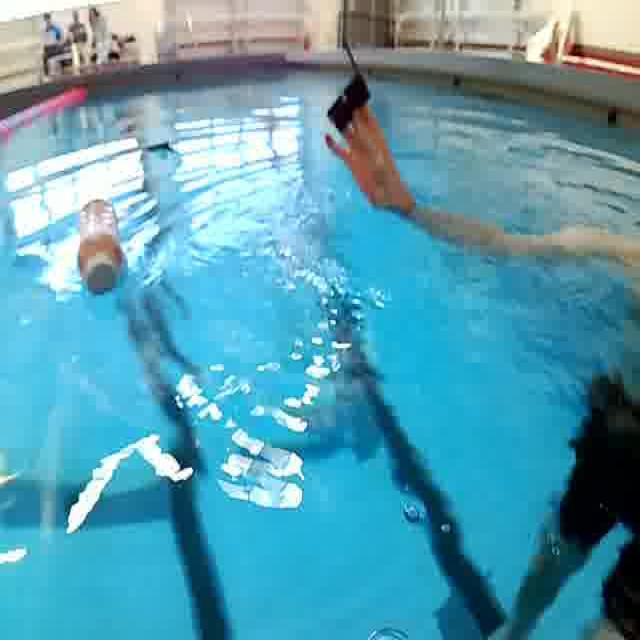Bottle: (73, 196, 131, 299)
CamMount: (322, 36, 372, 138), (144, 138, 185, 166)
